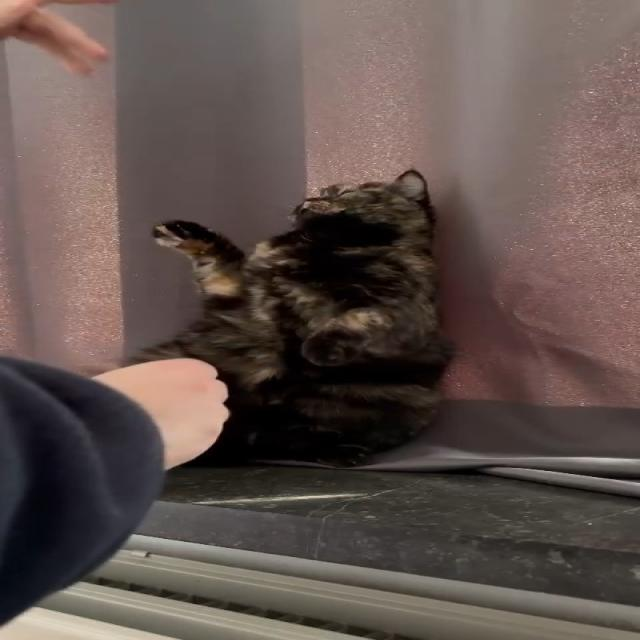authorized: (120, 167, 457, 468)
